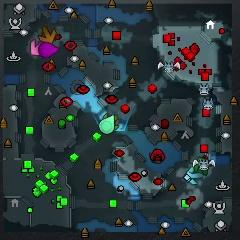p2: (99, 116, 115, 133)
p3: (38, 42, 60, 59)
x1: (30, 40, 45, 56)
x2: (104, 112, 120, 130)
x3: (184, 168, 203, 186)
x4: (195, 157, 211, 176)
x5: (37, 26, 56, 44)
